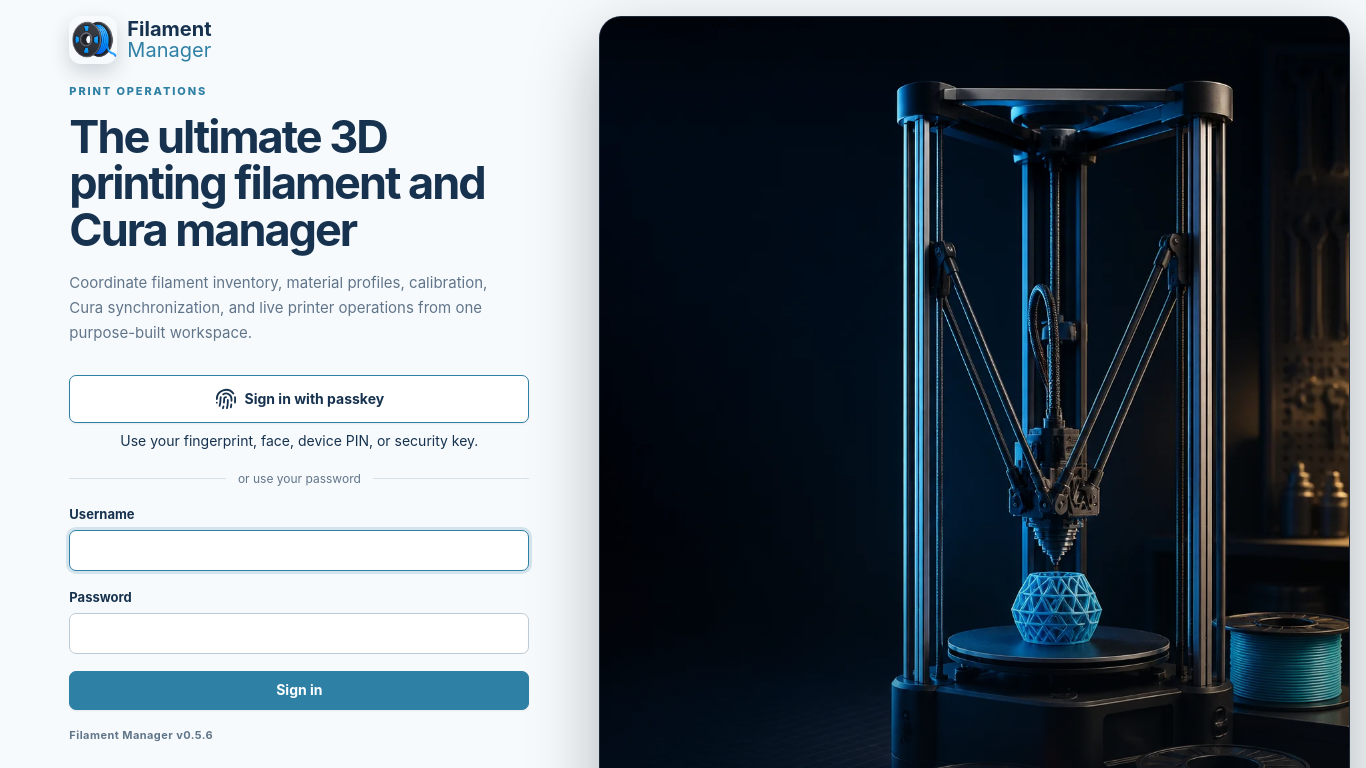
Test case: LoginPage › keeps automatic failure quiet and permits an explicit retry
The width and height of the screenshot is (1366, 768).
Click the button "Sign in with passkey": (299,400) [69, 376, 529, 424]
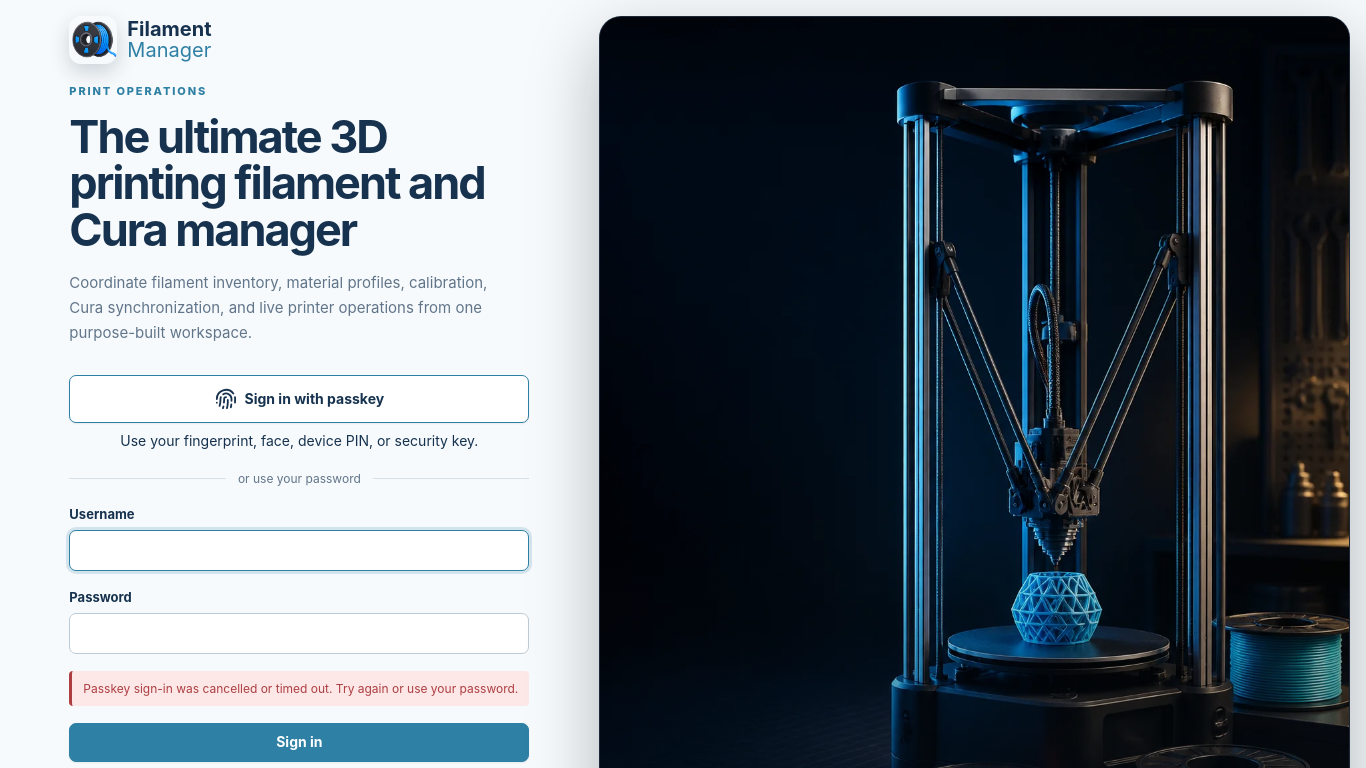
Expected: the message "Passkey sign-in was cancelled or timed out. Try again or use your password." is shown, [69, 670, 529, 706]
